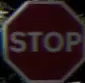Stop: (2, 1, 80, 75)
